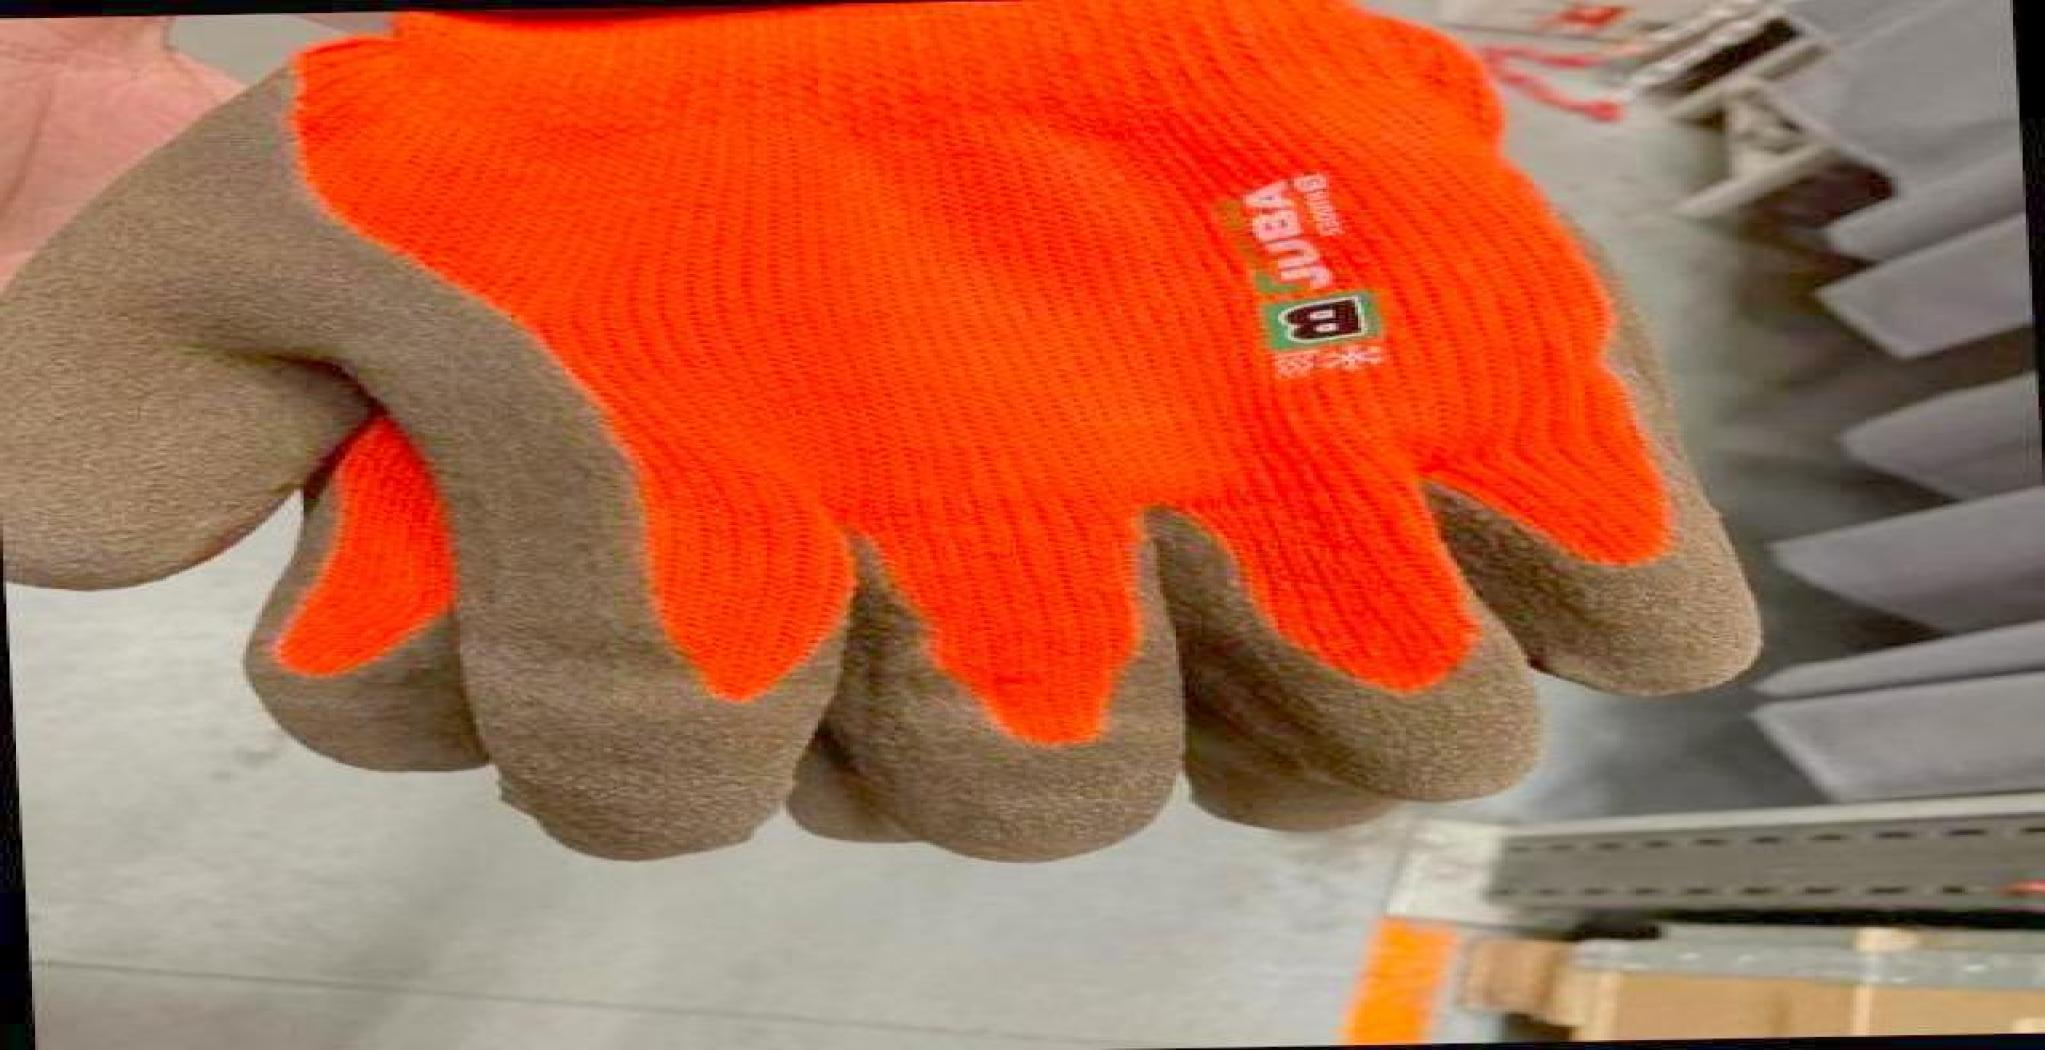gloved: (0, 0, 1764, 865)
